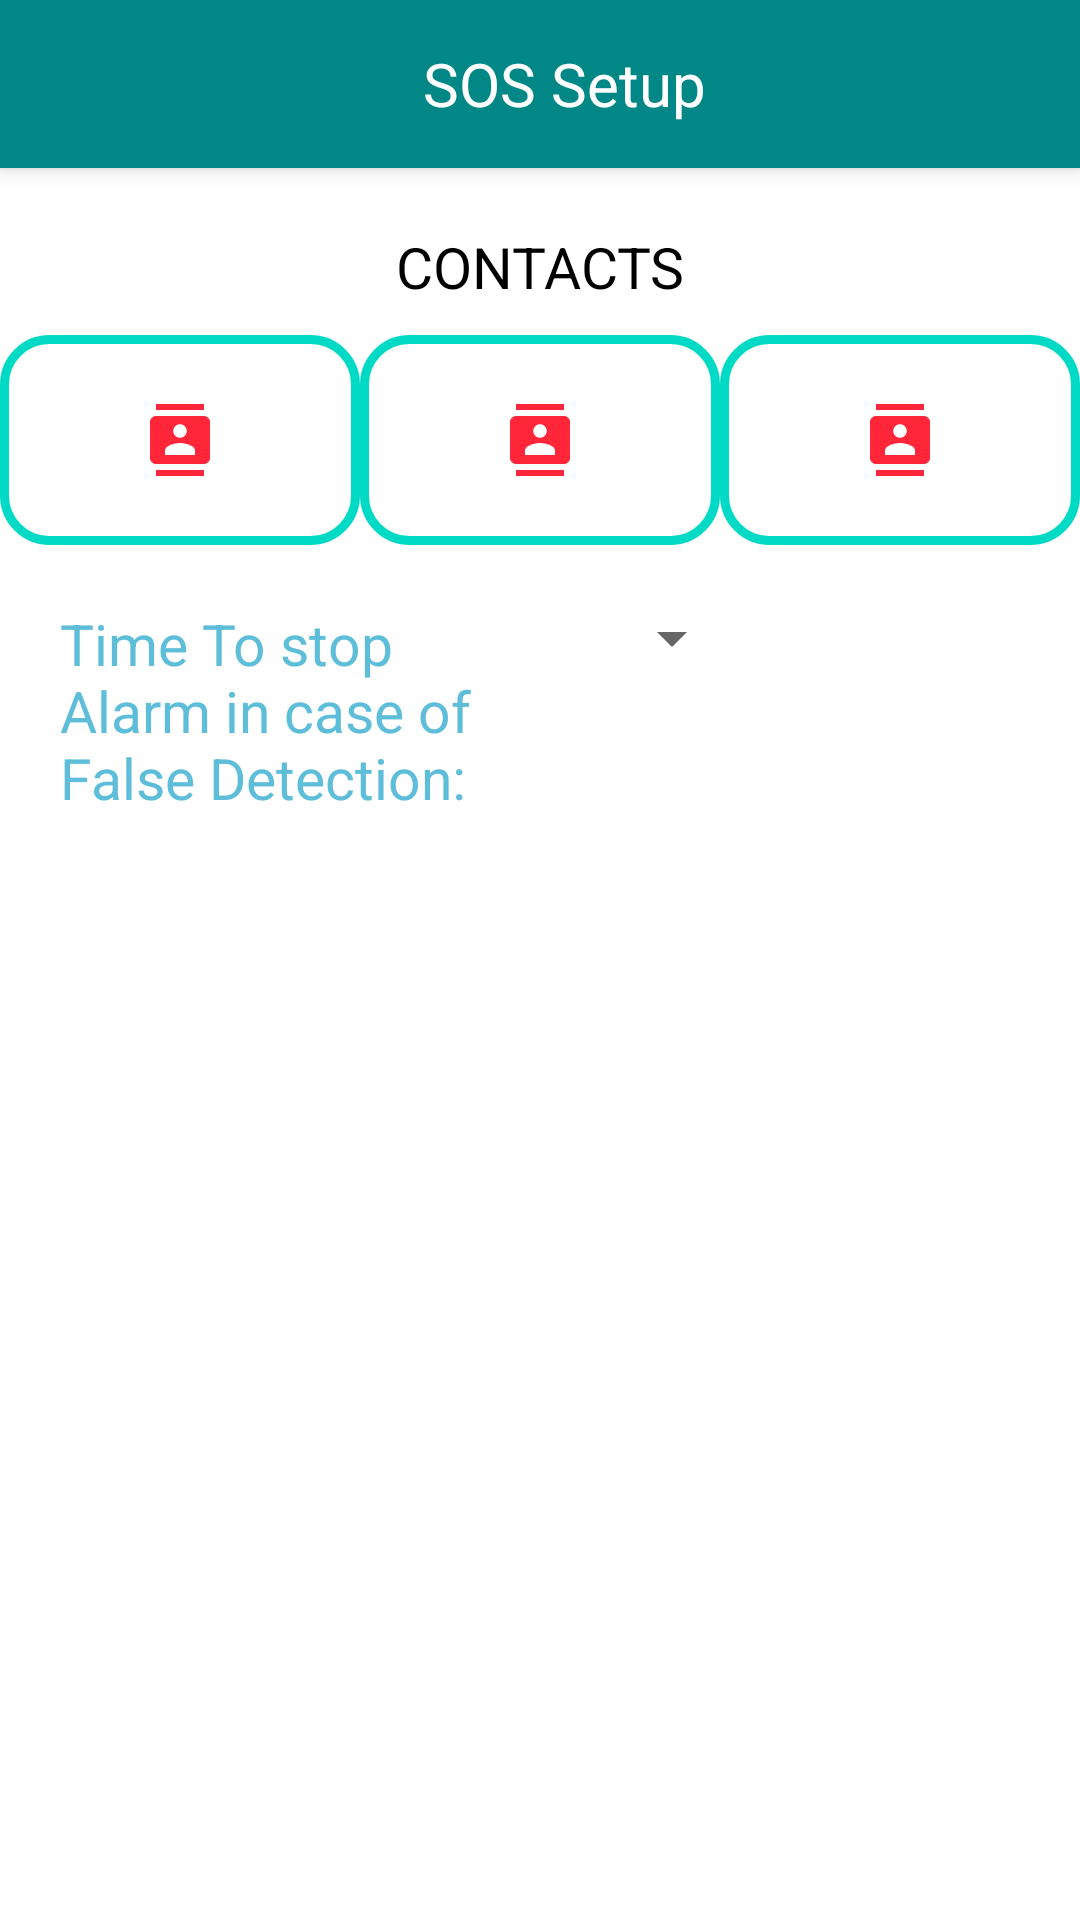

Icon click points for this 1080×1920 phone screenshot, format [x,y]:
contact insert: [180,440], [540,440], [900,440]
